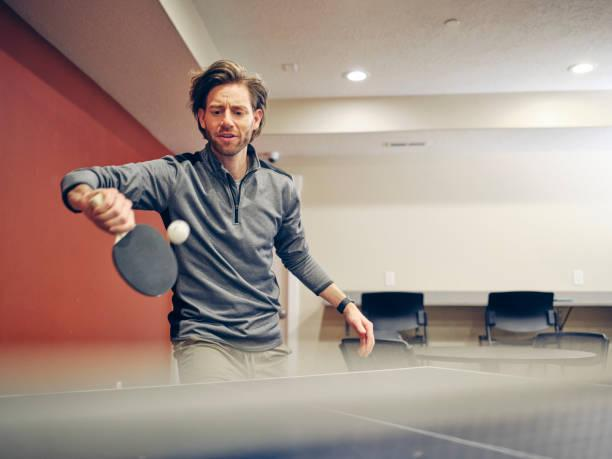ball_pingpong: (166, 220, 191, 244)
